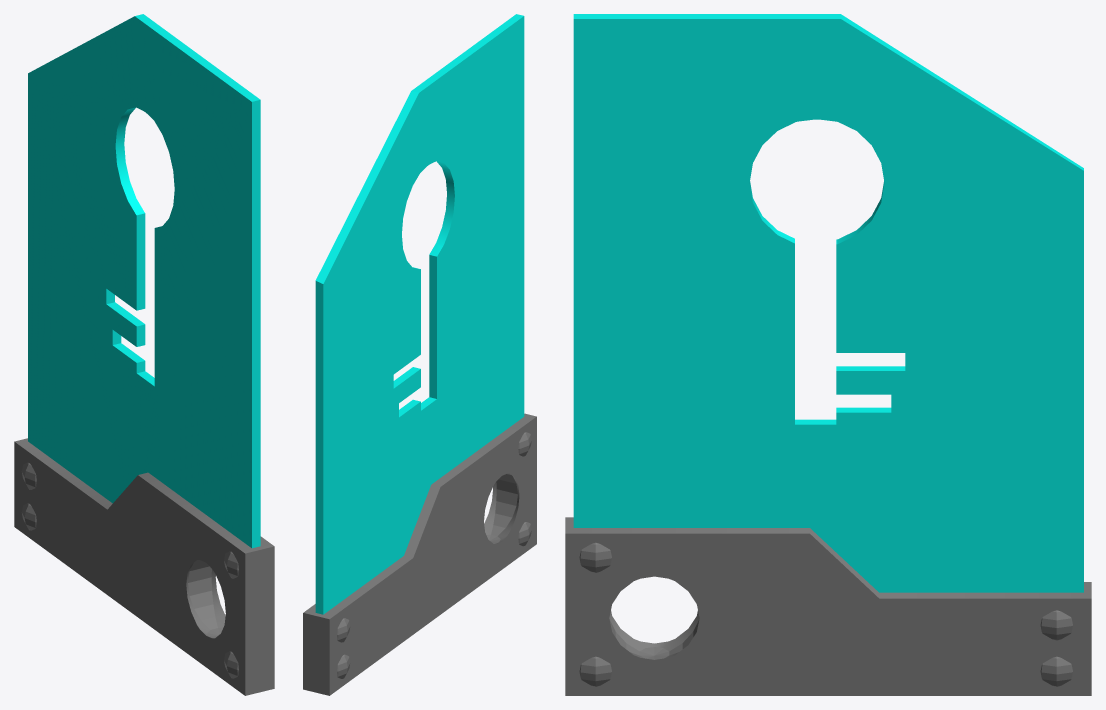
Rendered from keycard 1.fbx.
The picture shows the model from 3 angles, left to right: view 1: azimuth 30°, elevation 25°; view 2: azimuth 150°, elevation 25°; view 3: azimuth 270°, elevation 25°; orthographic projection. The views are drawn at different scales.
Visible parts, largest first — view 1: keycard; view 2: keycard; view 3: keycard.
Boxes of the visible parts, x1,y1,x2,y2 form: keycard: [14, 14, 274, 695]; keycard: [303, 14, 536, 695]; keycard: [565, 14, 1091, 695].
Bounding box in the file's own units: 0.4471 × 6.4 × 4.55.
